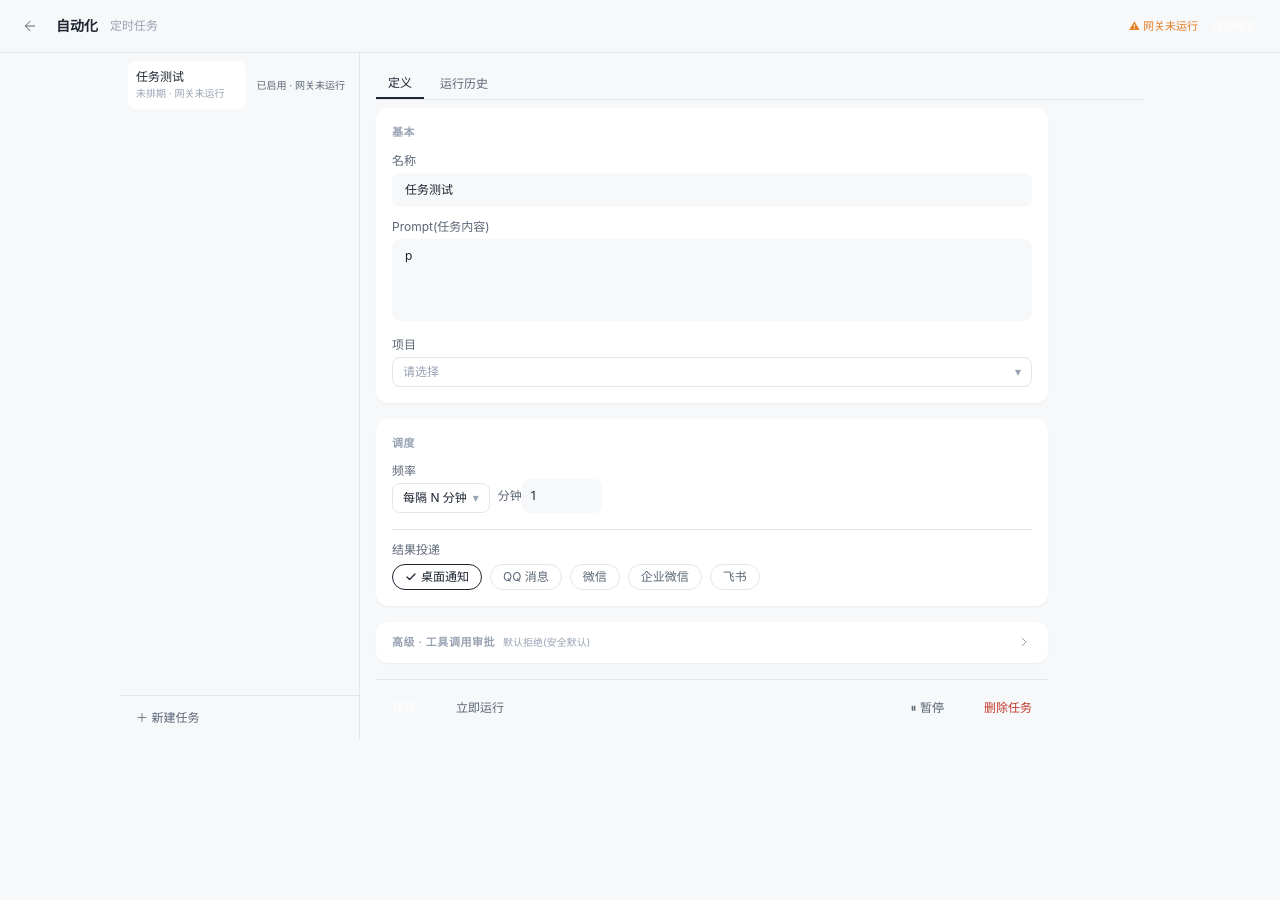
it: 立即运行:守护进程未运行时的反馈 › 明说没执行、且请求已撤回,不让用户空等
Click the button with test id "automation-run-now". click: (480, 708)
box: [440,692,520,724]
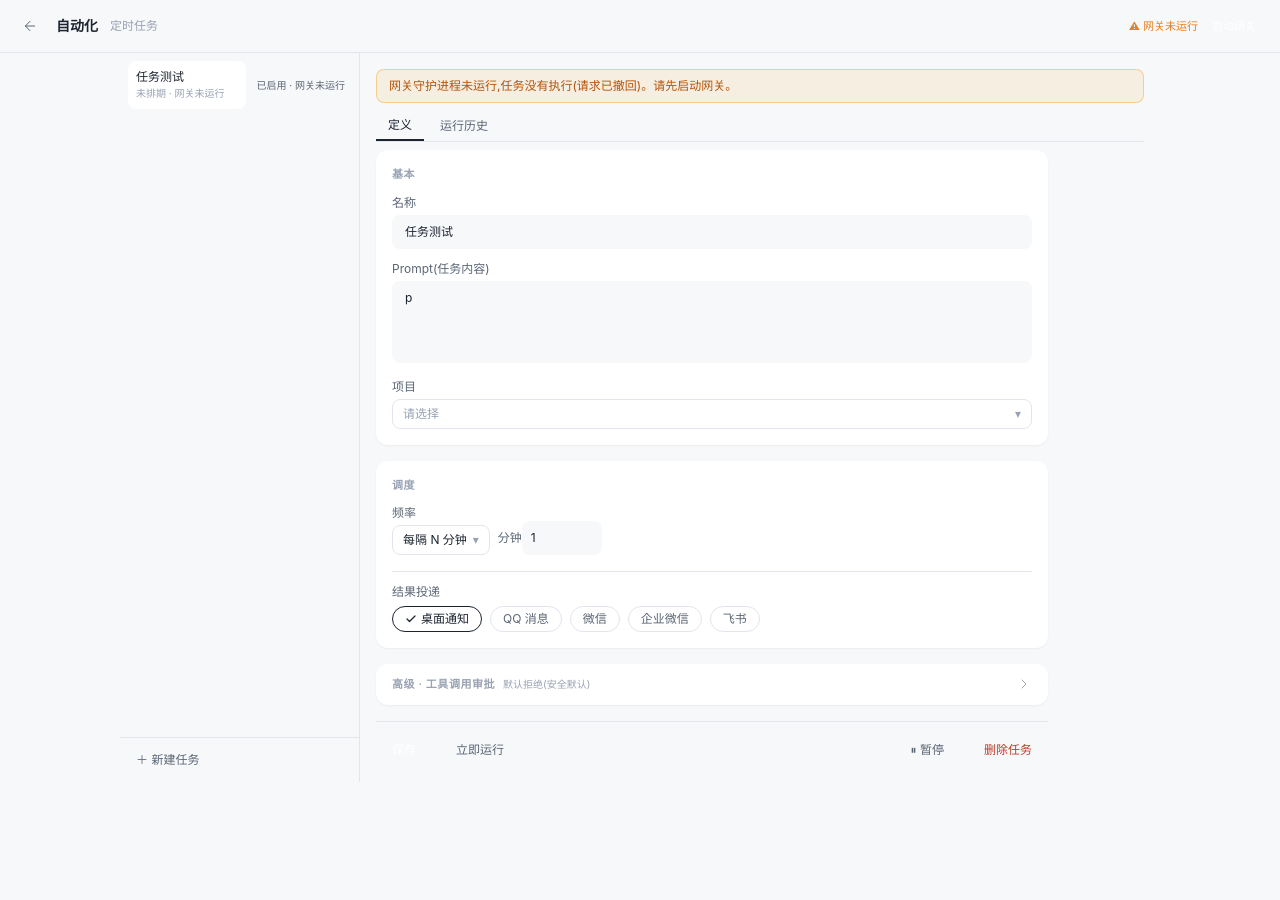
Check: the text with test id "runnow-busy-hint" shows "网关", box [376,69,1144,103]
Check: the text with test id "runnow-busy-hint" shows "未运行", box [376,69,1144,103]
